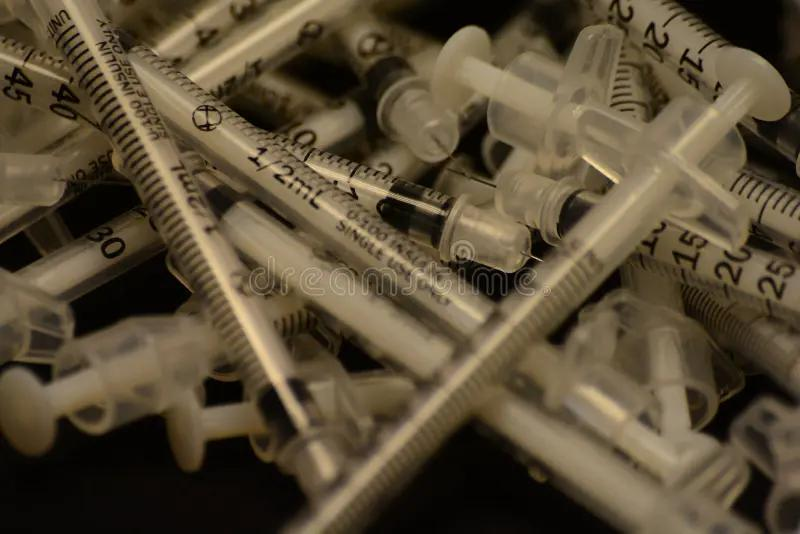Syringe: (287, 63, 779, 532), (32, 0, 341, 487), (130, 47, 491, 335), (507, 310, 748, 505), (208, 186, 452, 378), (273, 101, 529, 271), (218, 201, 452, 379), (477, 391, 758, 533), (272, 135, 530, 271), (432, 27, 643, 180), (433, 27, 624, 180), (181, 0, 362, 99), (338, 15, 458, 162), (632, 221, 799, 316), (583, 0, 730, 97), (15, 207, 164, 300), (682, 286, 799, 397), (0, 129, 112, 242), (164, 394, 278, 471), (0, 38, 96, 126), (137, 0, 271, 63), (716, 168, 799, 251), (228, 72, 331, 123), (279, 99, 364, 152), (492, 8, 559, 66), (492, 8, 558, 65), (363, 142, 429, 182)
